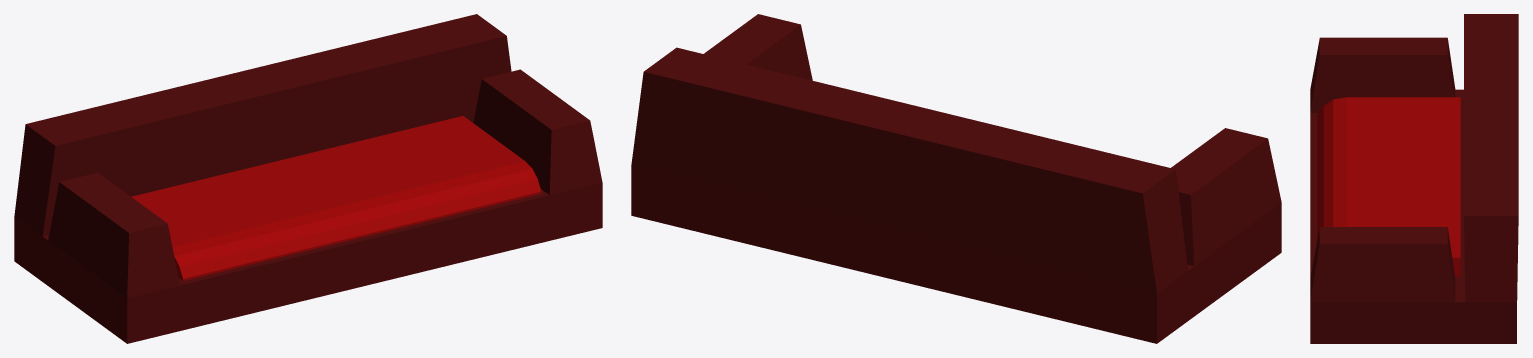
Rendered from sofa2.fbx.
3 renders of one model, left to right at view 1: azimuth 30°, elevation 25°; view 2: azimuth 150°, elevation 25°; view 3: azimuth 270°, elevation 25°, orthographic. The views are drawn at different scales.
Parts seen in each view (by area): view 1: pCube30; view 2: pCube30; view 3: pCube30.
Part boxes in pixels (x1,y1,x2,y2): pCube30: [14, 14, 602, 343]; pCube30: [631, 14, 1281, 343]; pCube30: [1310, 14, 1518, 343].
Bounding box in the file's own units: 230 × 61.89 × 95.3.
